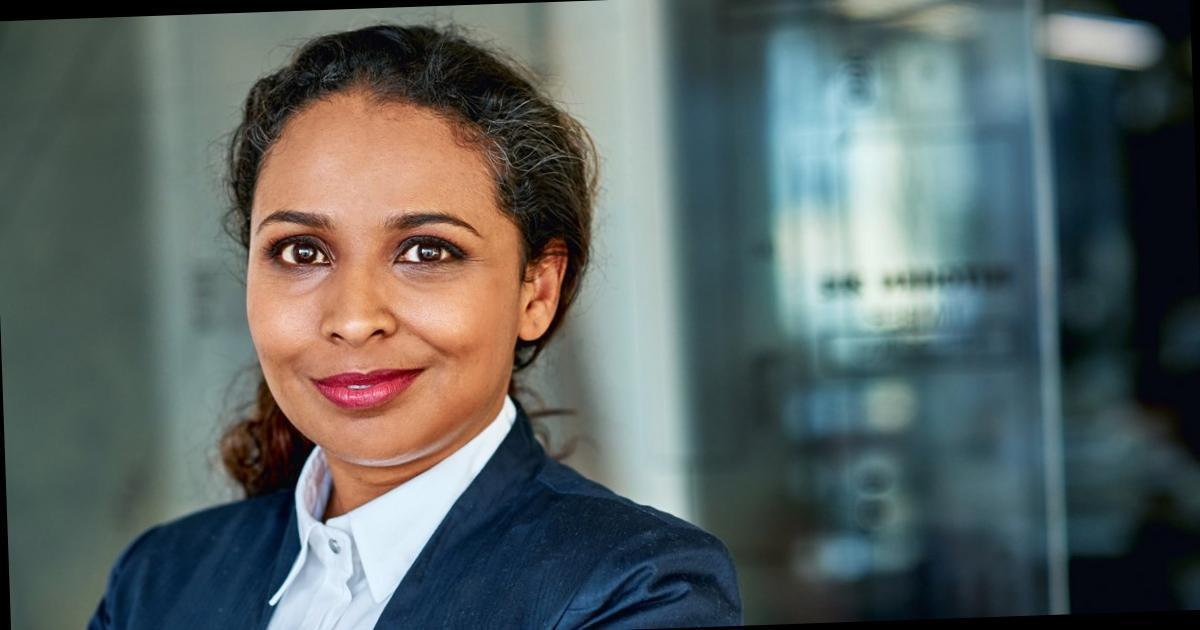Sober: (256, 139, 508, 453)
